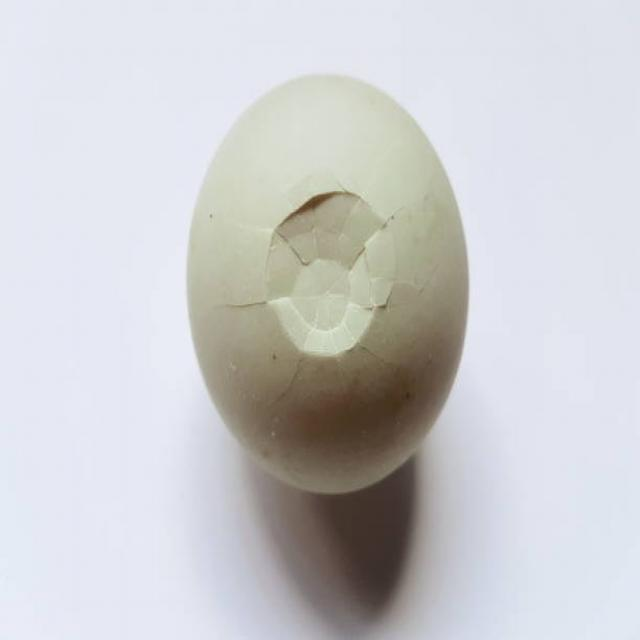biodegradable: (187, 74, 470, 494)
